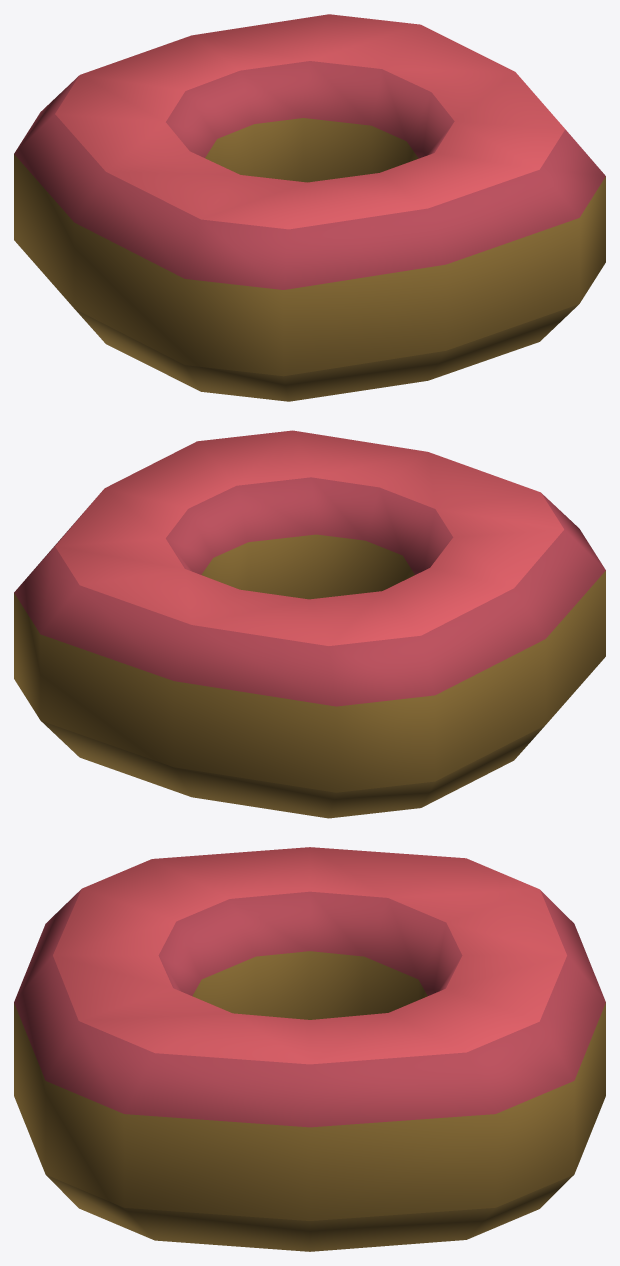
Rendered from doughnut.fbx.
3 views of the same model, one above another, from view 1: azimuth 30°, elevation 25°; view 2: azimuth 150°, elevation 25°; view 3: azimuth 270°, elevation 25° (orthographic). The views are drawn at different scales.
Parts seen in each view (by area): view 1: doughnut; view 2: doughnut; view 3: doughnut.
Boxes of the visible parts, x1,y1,x2,y2 form: doughnut: [14, 14, 605, 401]; doughnut: [14, 430, 605, 818]; doughnut: [14, 847, 605, 1251].
Bounding box in the file's own units: 31.22 × 10.9 × 31.22.
Materials: 1 (1 with a texture image).
